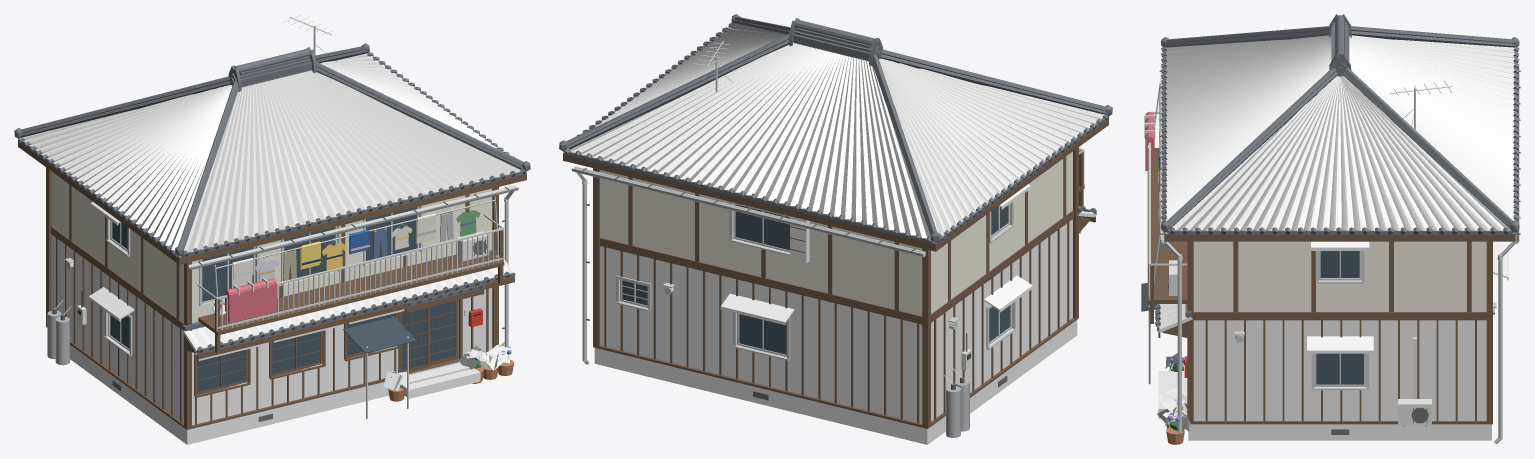
The model's file is house_twostory.glb.
3 renders of one model, left to right at view 1: azimuth 30°, elevation 25°; view 2: azimuth 150°, elevation 25°; view 3: azimuth 270°, elevation 25°, orthographic. The views are drawn at different scales.
Visible parts, largest first — view 1: house_twostory_body; view 2: house_twostory_body; view 3: house_twostory_body.
Boxes of the visible parts, <box> form: house_twostory_body: <box>14,14,530,444</box>; house_twostory_body: <box>559,14,1112,444</box>; house_twostory_body: <box>1141,14,1520,444</box>.
Size of what is drawn, in the model's own units: 10.39 by 8.37 by 8.87.
